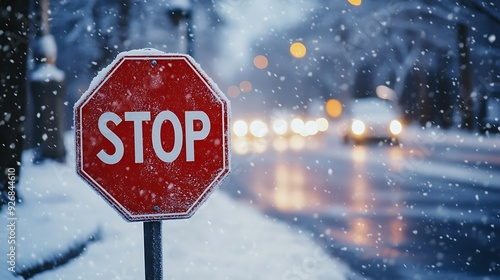StopSign: (75, 54, 229, 222)
